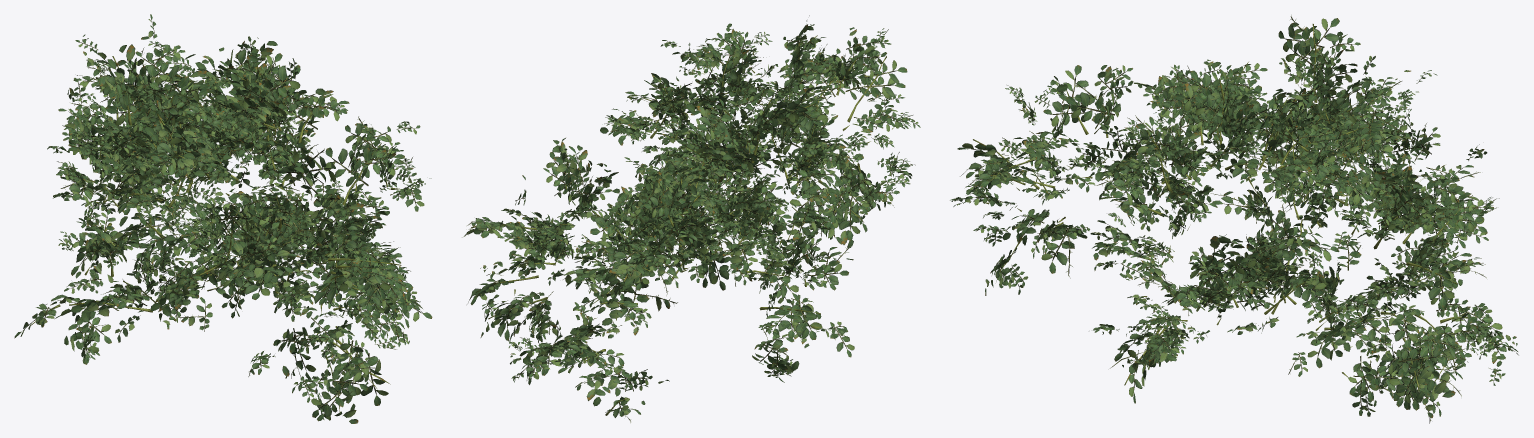
The model's file is arbolpeq_L0_hojas.glb.
3 views of the same model, side by side, from view 1: azimuth 30°, elevation 25°; view 2: azimuth 150°, elevation 25°; view 3: azimuth 270°, elevation 25° (orthographic). The views are drawn at different scales.
Visible parts, largest first — view 1: tree_small_02_LOD0; view 2: tree_small_02_LOD0; view 3: tree_small_02_LOD0.
Boxes of the visible parts, bbox=[...] form: tree_small_02_LOD0: bbox=[14, 14, 432, 423]; tree_small_02_LOD0: bbox=[462, 15, 920, 422]; tree_small_02_LOD0: bbox=[950, 15, 1518, 423].
Bounding box in the file's own units: 3.03 × 2.69 × 4.33.
1 material, 1 textured.
